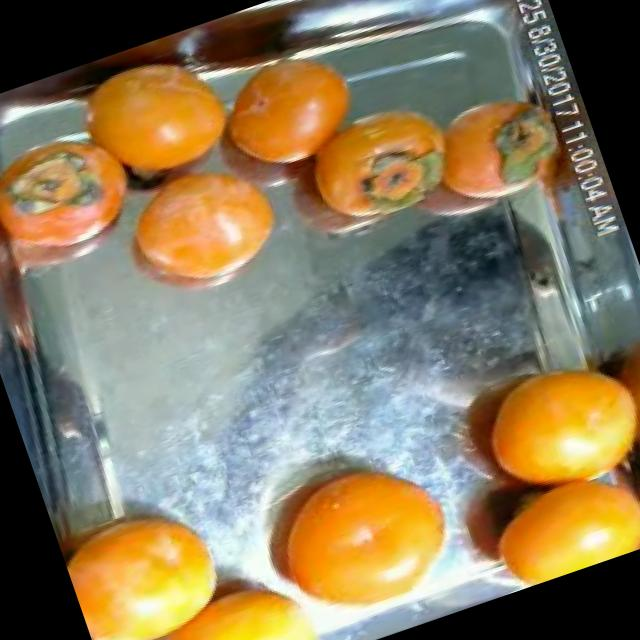Fruit: (227, 413, 497, 640), (90, 123, 317, 320), (51, 471, 253, 640), (192, 31, 387, 194)
